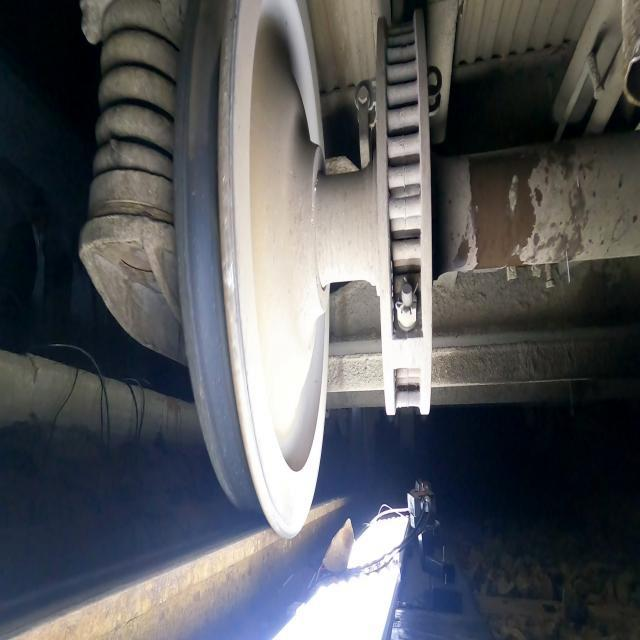Cracks-Scratches: (223, 259, 236, 291)
Shelling: (187, 2, 227, 156)
Wheel: (174, 0, 329, 536)
